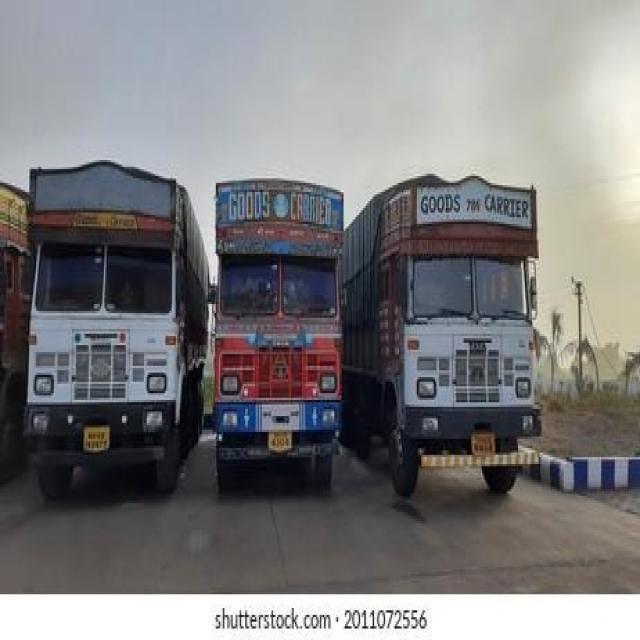Truck: (352, 141, 547, 538), (19, 101, 193, 512), (201, 105, 341, 553)
